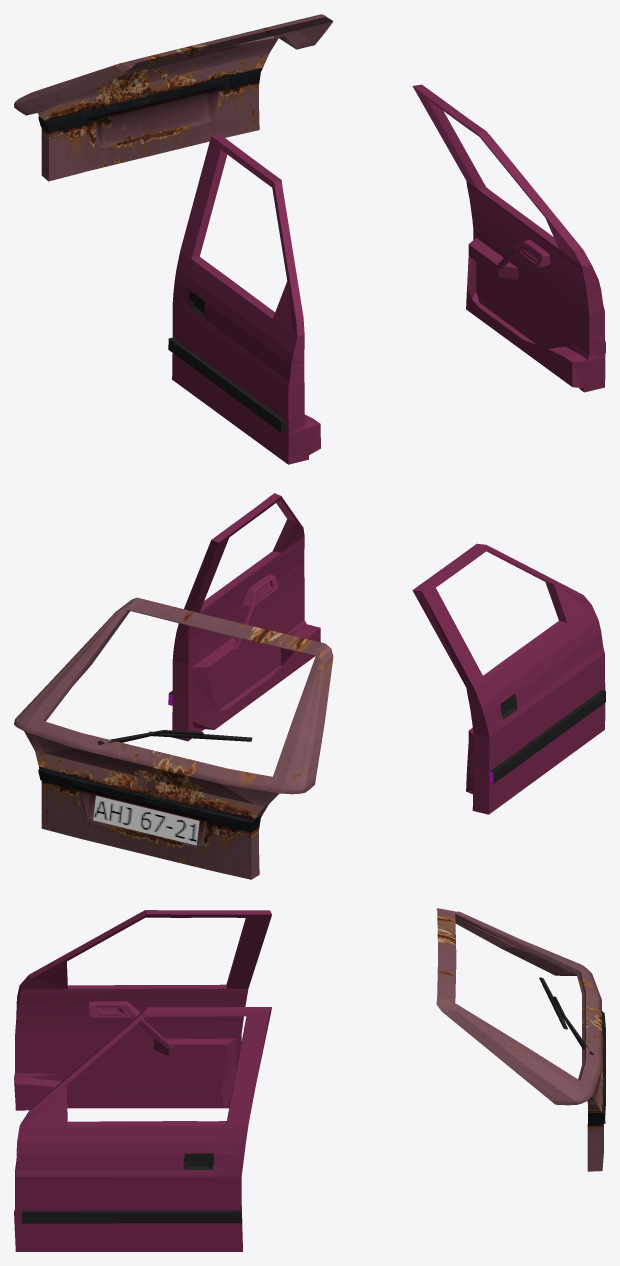
The picture shows the model from 3 angles, top to bottom: view 1: azimuth 30°, elevation 25°; view 2: azimuth 150°, elevation 25°; view 3: azimuth 270°, elevation 25°; orthographic projection. The views are drawn at different scales.
Visible parts, largest first — view 1: dvere_kufr; view 2: dvere_kufr; view 3: dvere_kufr.
Boxes of the visible parts, bbox=[...] form: dvere_kufr: bbox=[14, 14, 605, 464]; dvere_kufr: bbox=[14, 493, 605, 879]; dvere_kufr: bbox=[14, 908, 605, 1251].
Size of the model in its own units: 1.54 by 1.03 by 2.48.
Materials: 1 (1 with a texture image).
